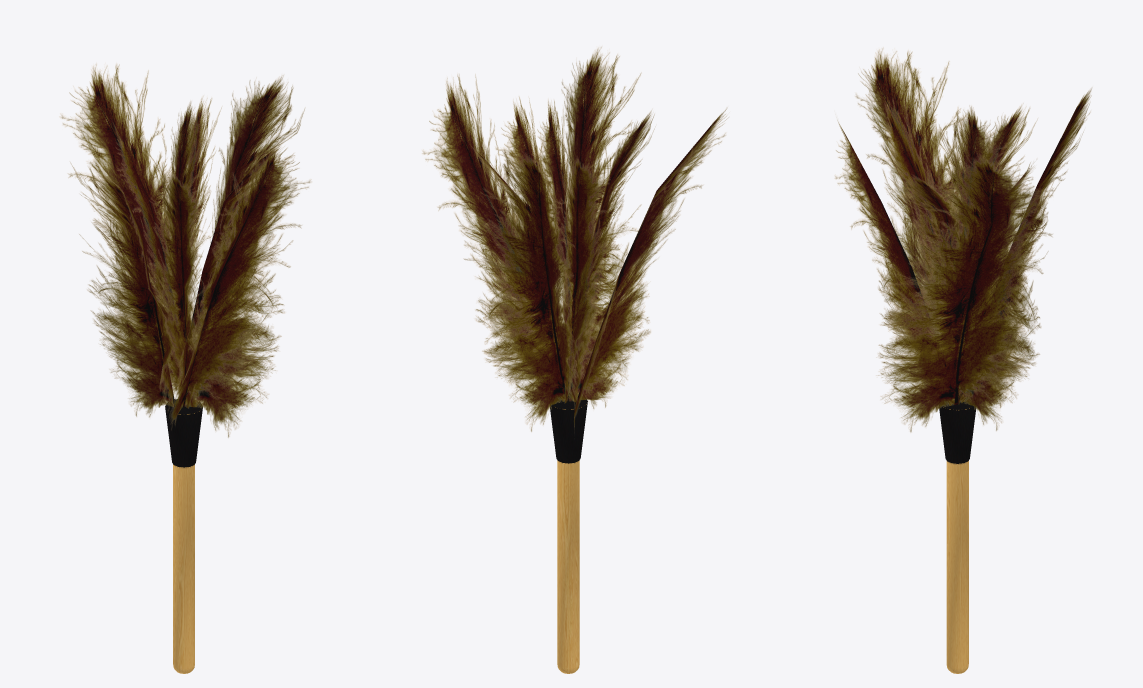
File: feather_duster.glb
3 renders of one model, left to right at view 1: azimuth 30°, elevation 25°; view 2: azimuth 150°, elevation 25°; view 3: azimuth 270°, elevation 25°, orthographic.
Parts seen in each view (by area): view 1: Handle, Handle.001; view 2: Handle, Handle.001; view 3: Handle, Handle.001.
Part boxes in pixels (x1,y1,x2,y2): Handle: [59, 64, 311, 437]; Handle.001: [165, 399, 202, 673]; Handle: [422, 47, 728, 431]; Handle.001: [550, 397, 587, 673]; Handle: [835, 47, 1091, 432]; Handle.001: [939, 398, 976, 673].
Bounding box in the file's own units: 0.214 × 0.4791 × 0.2347.
Materials: 2 (2 with a texture image).
